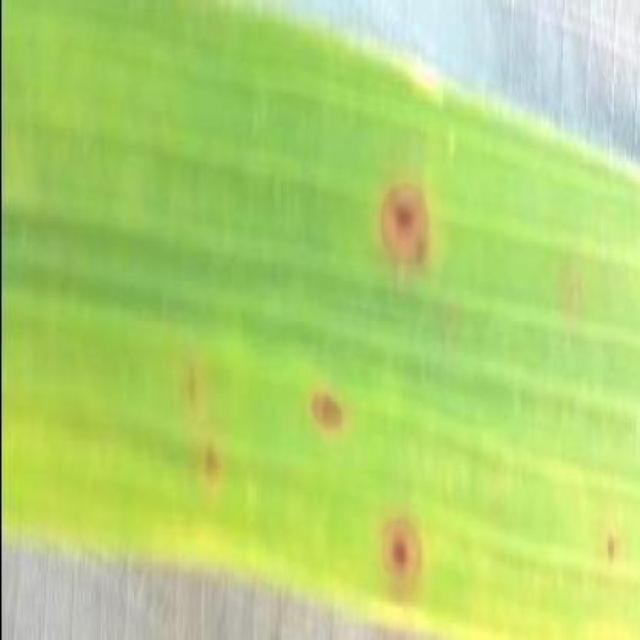Leaf_Blast: (368, 169, 450, 291), (588, 474, 638, 586), (370, 511, 428, 607), (164, 347, 227, 431), (296, 378, 362, 450), (552, 258, 596, 328), (185, 433, 233, 492), (436, 124, 470, 171)
